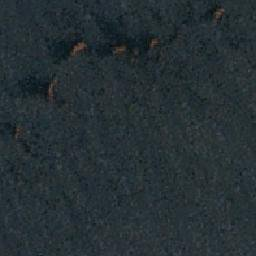debris: (45, 79, 57, 104), (70, 42, 85, 56), (148, 38, 157, 52), (114, 46, 124, 56)
